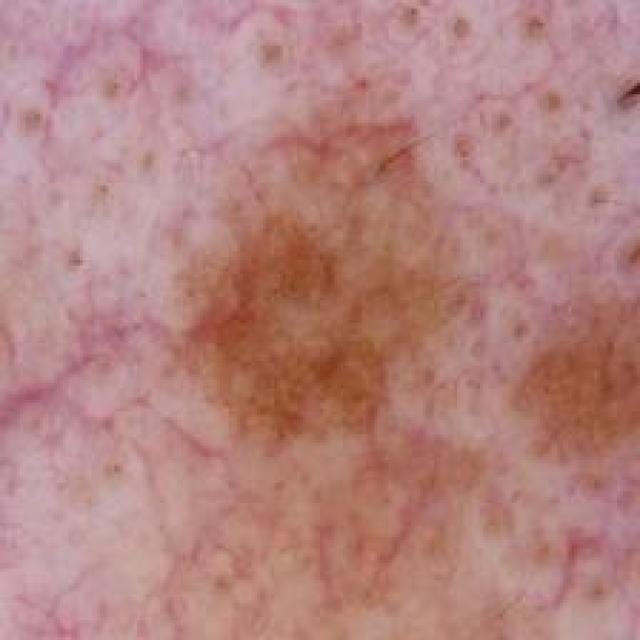Cancer: (154, 78, 640, 624)
